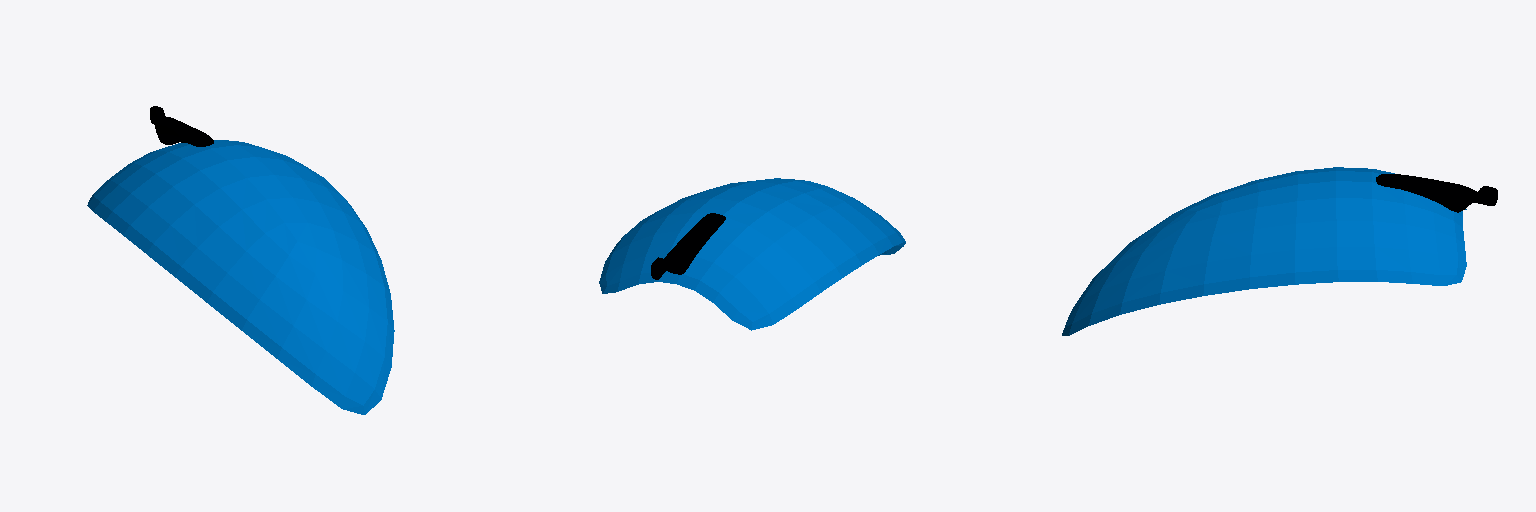
Rendered from lepestok.obj.
The picture shows the model from 3 angles: view 1: azimuth 30°, elevation 25°; view 2: azimuth 150°, elevation 25°; view 3: azimuth 270°, elevation 25°; orthographic projection.
Visible parts, largest first — view 1: Cube.020_Cube.003; view 2: Cube.020_Cube.003; view 3: Cube.020_Cube.003.
Boxes of the visible parts, <box> form: Cube.020_Cube.003: <box>87,106,394,414</box>; Cube.020_Cube.003: <box>599,178,905,330</box>; Cube.020_Cube.003: <box>1062,167,1497,335</box>.
Bounding box in the file's own units: 3.25 × 2.38 × 5.92.